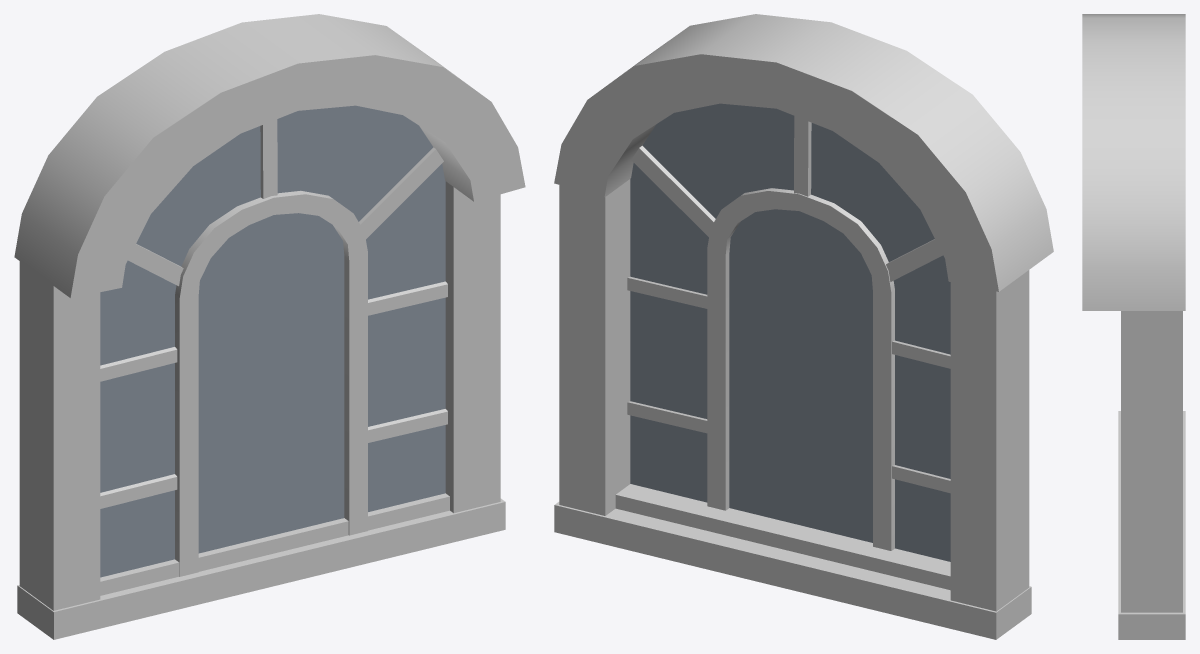
Rendered from q_window_frame.glb.
3 renders of one model, left to right at view 1: azimuth 30°, elevation 25°; view 2: azimuth 150°, elevation 25°; view 3: azimuth 270°, elevation 25°, orthographic. The views are drawn at different scales.
Parts seen in each view (by area): view 1: Window_Wide_Round1.001, Glow; view 2: Window_Wide_Round1.001, Glow; view 3: Window_Wide_Round1.001.
Part boxes in pixels (box(x1,y1,x2,y2)): Window_Wide_Round1.001: box(14, 14, 525, 639); Glow: box(100, 105, 445, 577); Window_Wide_Round1.001: box(554, 14, 1053, 639); Glow: box(630, 103, 950, 561); Window_Wide_Round1.001: box(1082, 14, 1185, 639).
Bounding box in the file's own units: 1.4 × 1.58 × 0.3.
